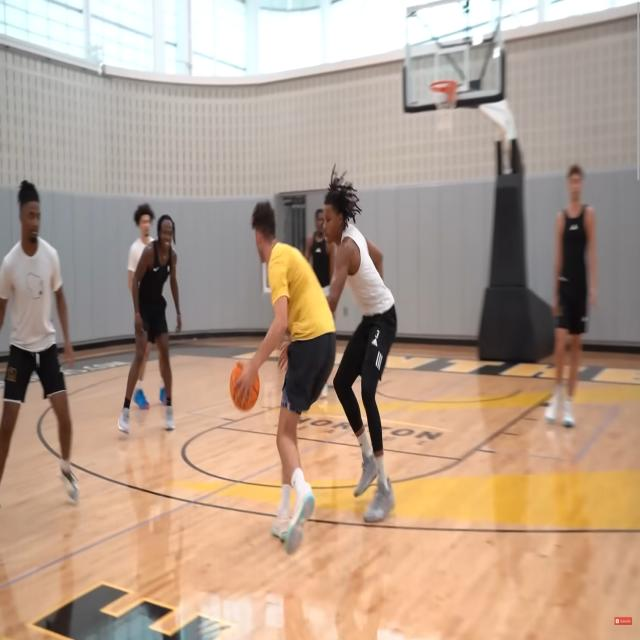Basketball: (229, 362, 261, 411)
Basketball Rim: (428, 79, 458, 131)
Player: (234, 202, 338, 554), (0, 180, 82, 507), (321, 181, 398, 527), (542, 165, 598, 431), (118, 214, 182, 433), (126, 203, 152, 293)
